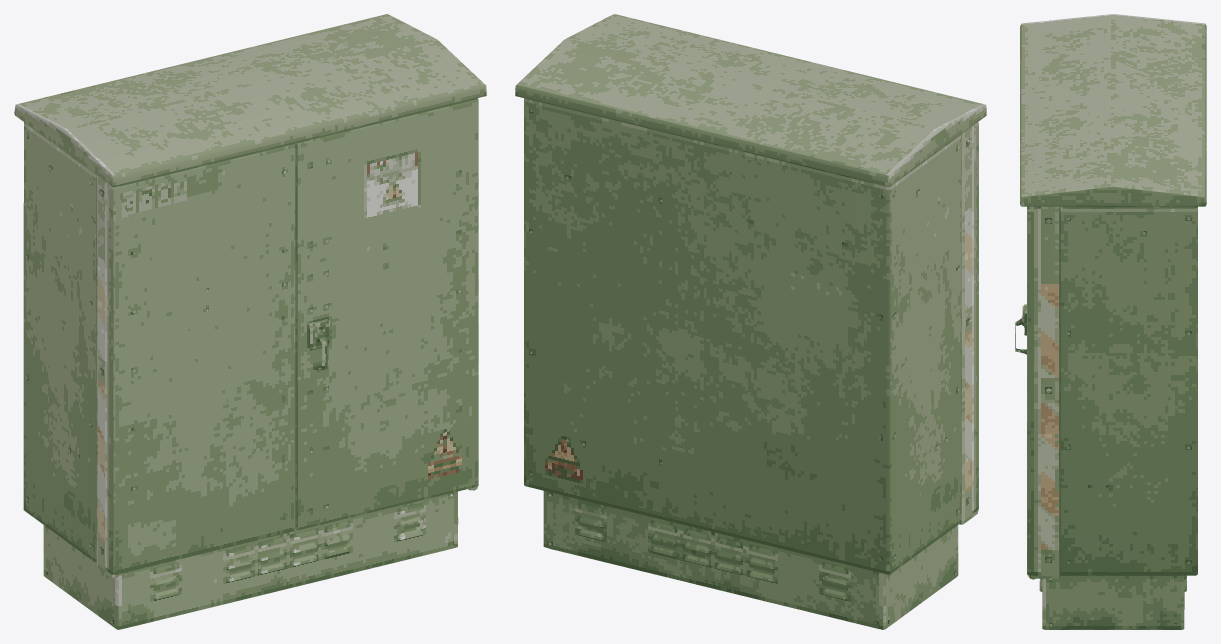
File: utility_box_02.glb
The picture shows the model from 3 angles, left to right: view 1: azimuth 30°, elevation 25°; view 2: azimuth 150°, elevation 25°; view 3: azimuth 270°, elevation 25°; orthographic projection. The views are drawn at different scales.
Visible parts, largest first — view 1: mesh; view 2: mesh; view 3: mesh.
Boxes of the visible parts, x1,y1,x2,y2 form: mesh: [14, 14, 486, 629]; mesh: [515, 14, 986, 629]; mesh: [1015, 14, 1206, 629].
Size of the model in its own units: 19.71 by 24 by 9.22.
1 material, 1 textured.
